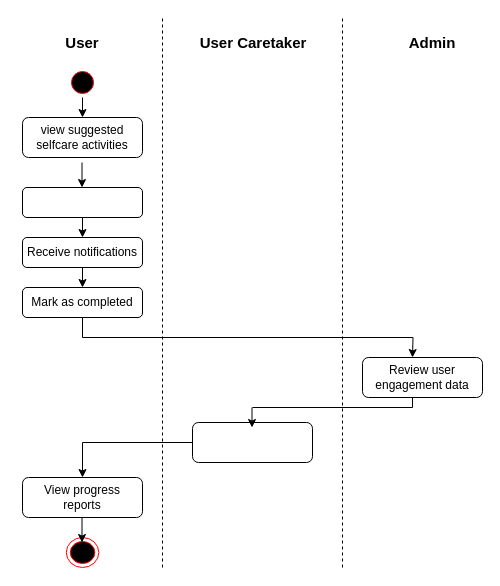
The diagram is 500 pixels wide and 586 high, and some of its shapes have lost their labels. The box of each missing label's shape, as (x1, y1, x2, y2) in pixels:
set reminders: (22, 186, 142, 218)
Track user progress reports: (192, 422, 312, 462)
